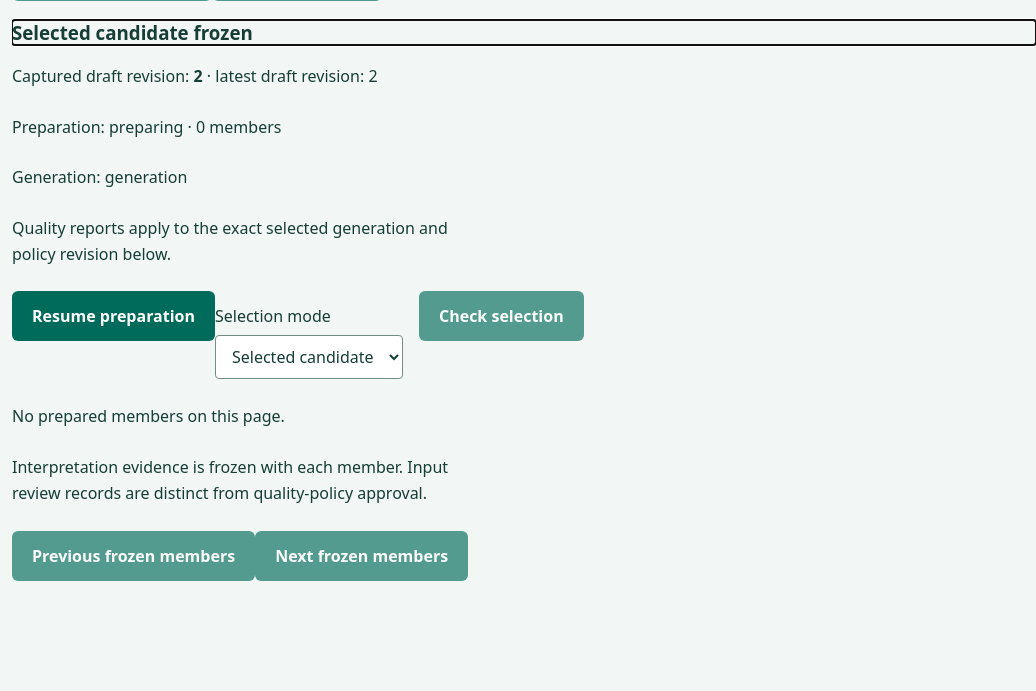
pauses archived dataset captures while preserving existing candidate preparation
(page scrolled)
Expected: the text "Preparation: preparing · 0 members" is shown, [12,116,282,138]
Step 1. Click the button "Resume preparation" → (114, 316), box [12,291,215,341]
(page scrolled)
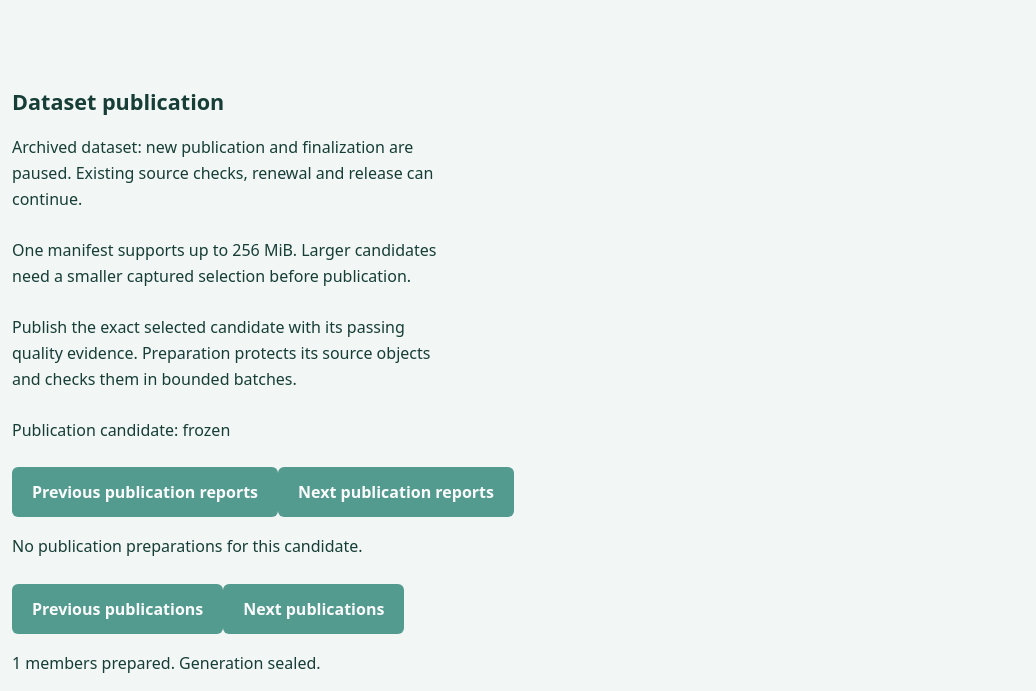
Expected: the text "1 members prepared. Generation sealed." is shown, [12,652,320,674]
